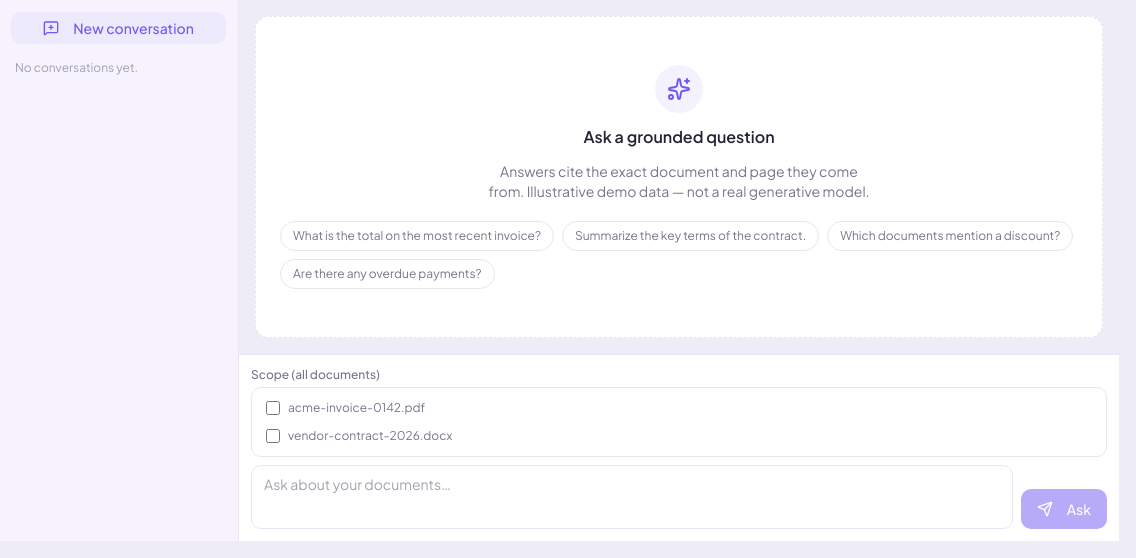
it: AiAssistantPage › lets the user narrow a new conversation to specific documents
This screenshot has width=1136, height=558.
Expected: the text "acme-invoice-0142.pdf" is shown, [288,400,425,416]
Expected: the text "Scope (all documents)" is shown, [251,367,380,383]
Click the checkbox labelled "acme-invoice-0142.pdf": (273, 408) [266,401,280,415]
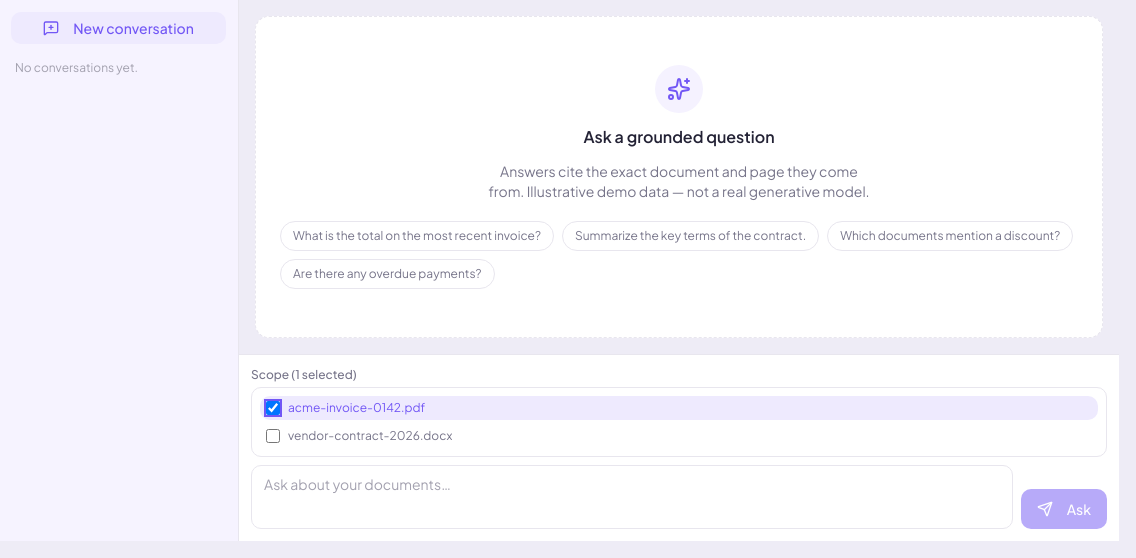
Expected: the text "Scope (1 selected)" is shown, [251,367,357,383]
